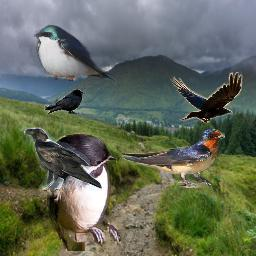Crow: (24, 127, 102, 198), (170, 72, 243, 123), (44, 89, 86, 114)
Swallow: (44, 130, 125, 251), (122, 129, 225, 188), (33, 24, 117, 81)
